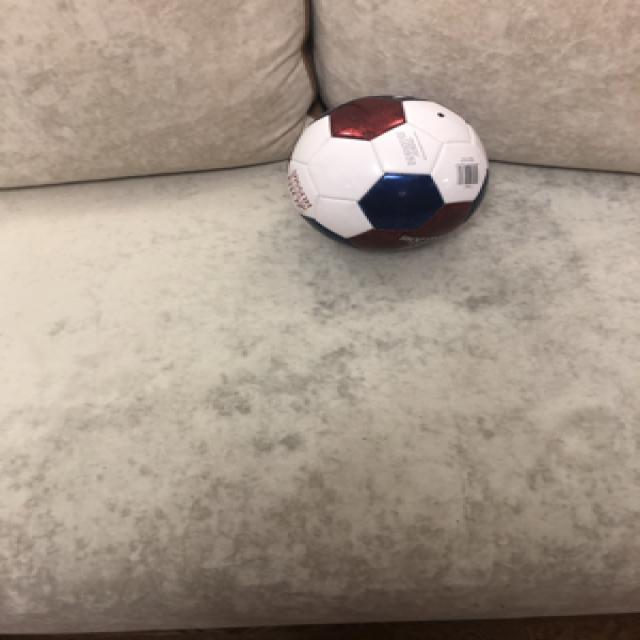soccer_ball: (282, 90, 488, 250)
